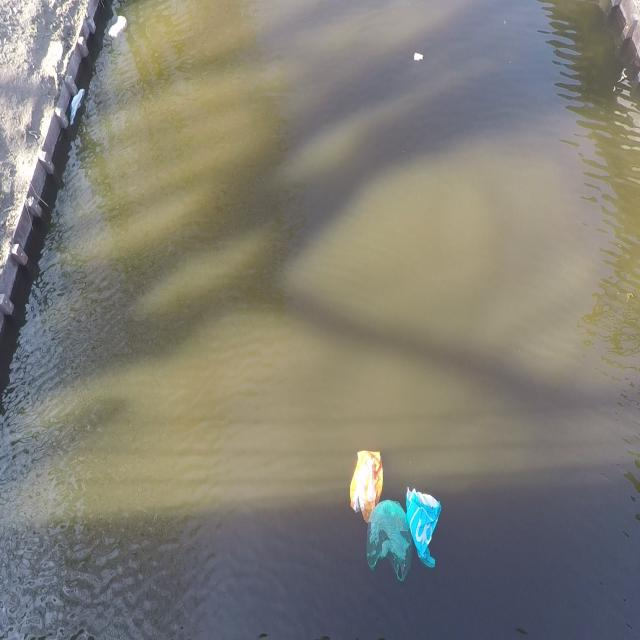Sac plastique: (362, 496, 416, 593), (403, 479, 443, 576)
